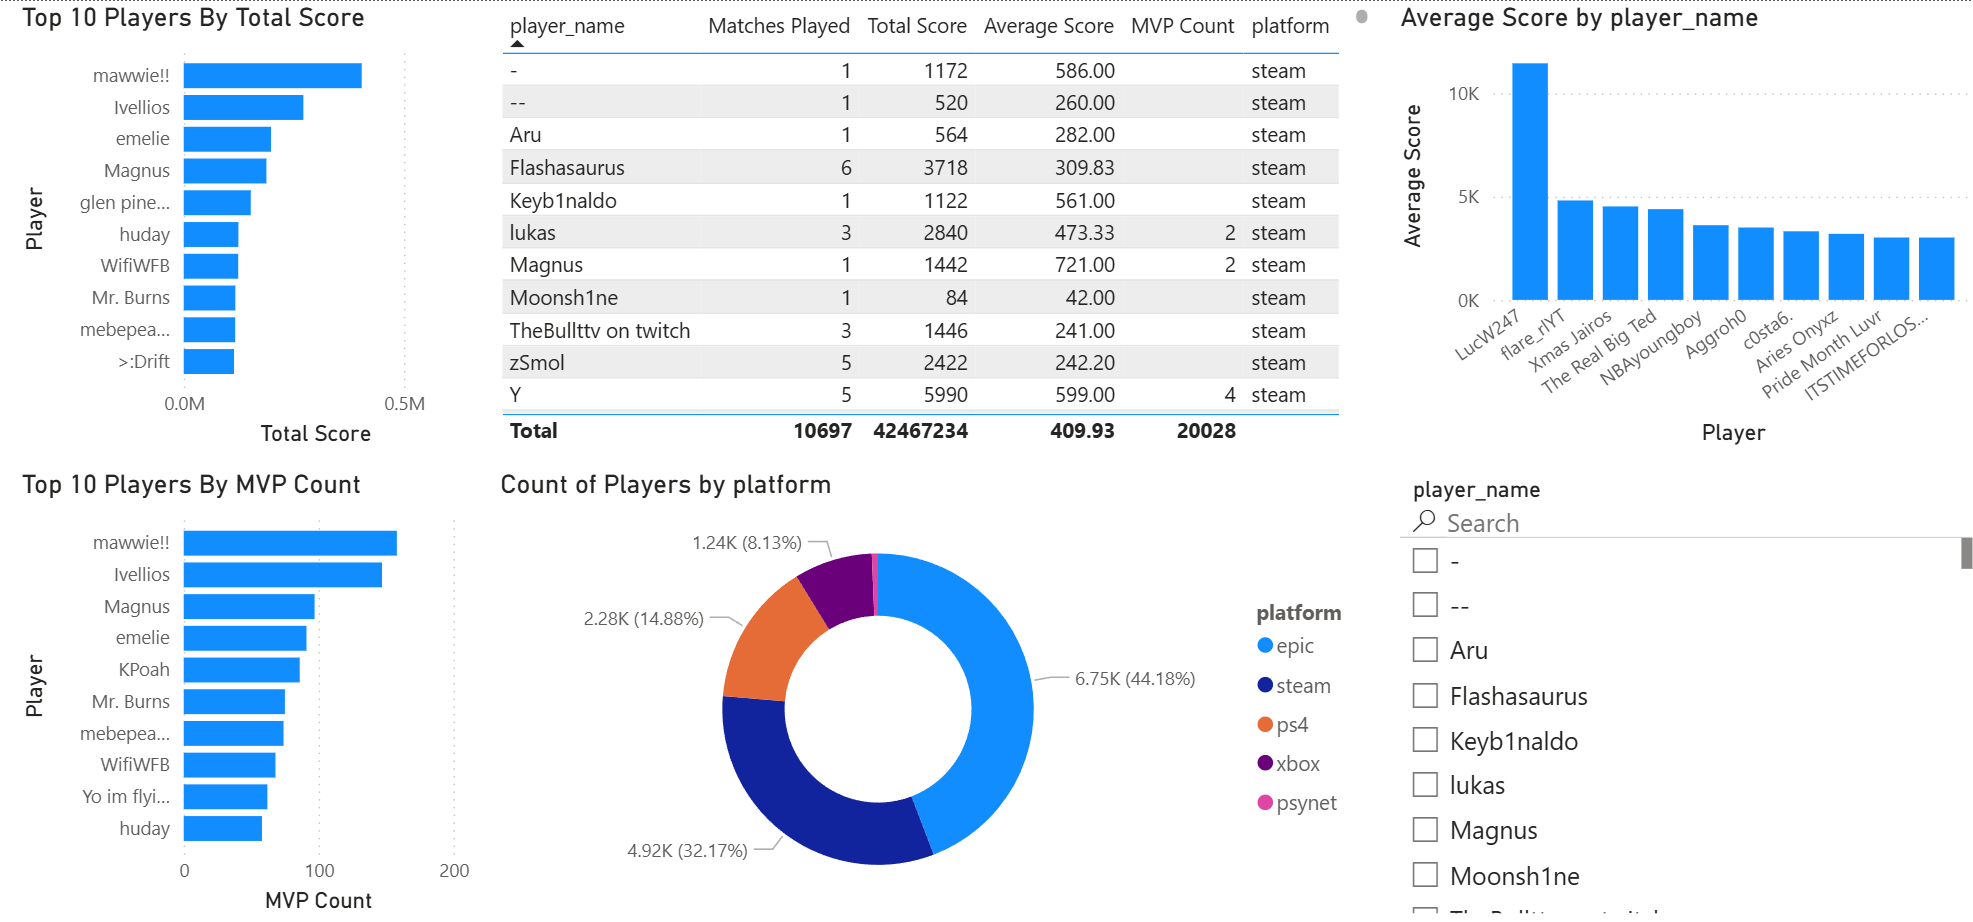

What the dashboard file says about the page in this screenshot:
{"tool":"powerbi","page":{"name":"Player Analytics","canvas":[1280,720],"ordinal":1},"visuals":[{"type":"clusteredBarChart","title":"Top 10 Players By Total Score","fields":{"Category":["dim_Players.player_name"],"Y":["fact_Match_Stats.Total Score"]},"box":[9.7,0,299.4,292.4],"z":0},{"type":"clusteredBarChart","title":"Top 10 Players By MVP Count","fields":{"Category":["dim_Players.player_name"],"Y":["fact_Match_Stats.MVP Count"]},"box":[10,302,299,292],"z":1000},{"type":"tableEx","fields":{"Values":["dim_Players.player_name","fact_Match_Stats.Matches Played","fact_Match_Stats.Total Score","fact_Match_Stats.Average Score","fact_Match_Stats.MVP Count","dim_Players.platform"]},"box":[318.9,0,570.5,292.4],"z":2000},{"type":"donutChart","title":"Count of Players by platform","fields":{"Category":["dim_Players.platform"],"Y":["Count(dim_Players.player_id)"]},"box":[319,302,571,292],"z":3000},{"type":"clusteredColumnChart","fields":{"Category":["dim_Players.player_name"],"Y":["fact_Match_Stats.Average Score"]},"box":[900,0,380,292],"z":3001},{"type":"slicer","fields":{"Values":["dim_Players.player_name"]},"box":[900,302,380,292],"z":3002}]}

Visuals, with their boxes on the page's 1280x720 design canvas (x1, y1, x2, y2). These are canvas units, not pixel positions in the 1973x922 screenshot, which may show the page scaled, cropped or inside an application window:
"Top 10 Players By Total Score" clusteredBarChart: (left=10, top=0, right=309, bottom=292)
"Top 10 Players By MVP Count" clusteredBarChart: (left=10, top=302, right=309, bottom=594)
tableEx - dim_Players.player_name x fact_Match_Stats.Matches Played: (left=319, top=0, right=889, bottom=292)
"Count of Players by platform" donutChart: (left=319, top=302, right=890, bottom=594)
clusteredColumnChart - dim_Players.player_name x fact_Match_Stats.Average Score: (left=900, top=0, right=1280, bottom=292)
slicer - dim_Players.player_name: (left=900, top=302, right=1280, bottom=594)
